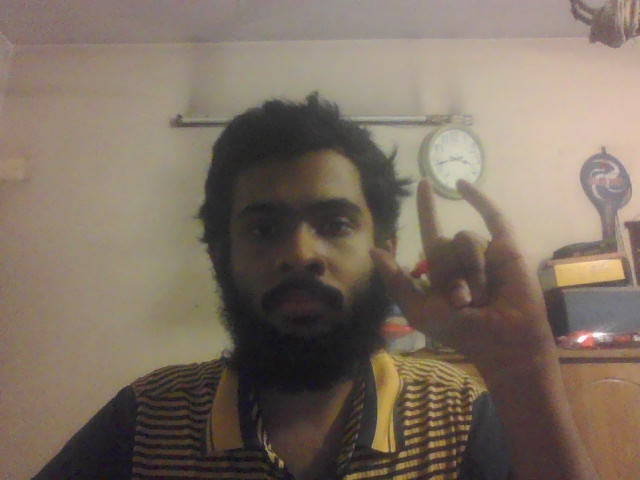I Love You: (366, 180, 550, 349)
